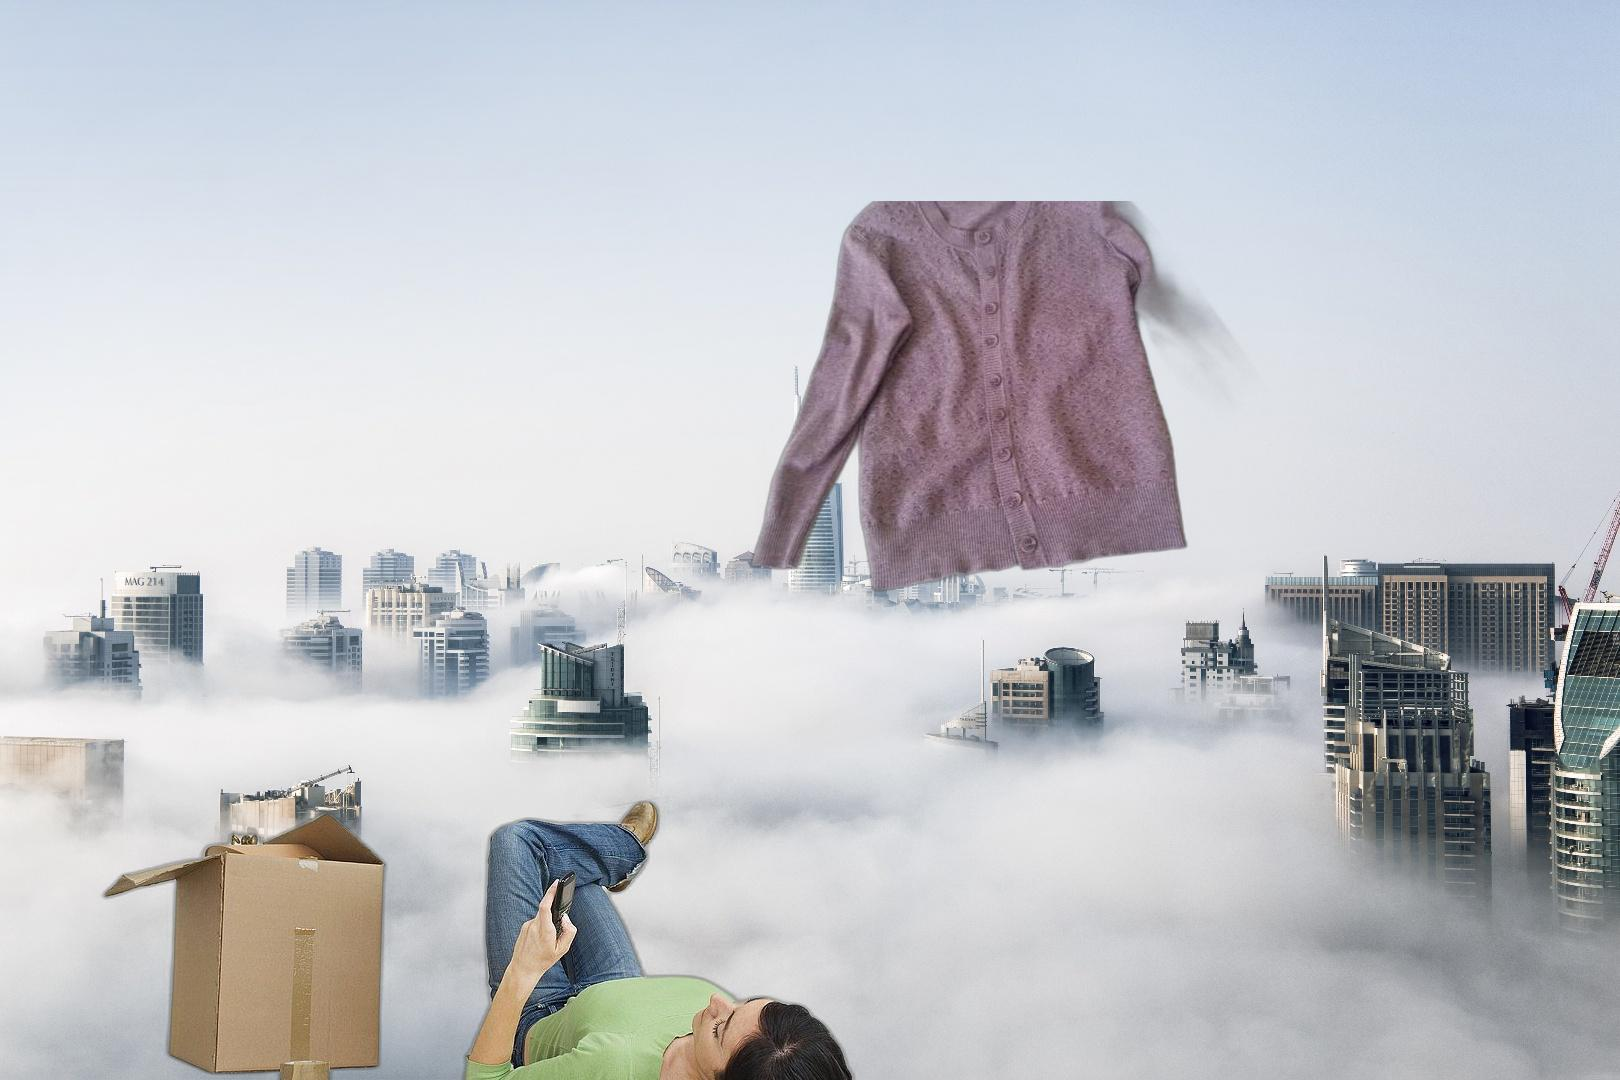clothes: (745, 201, 1270, 595)
trashbox-cardboard: (94, 796, 893, 1080)
